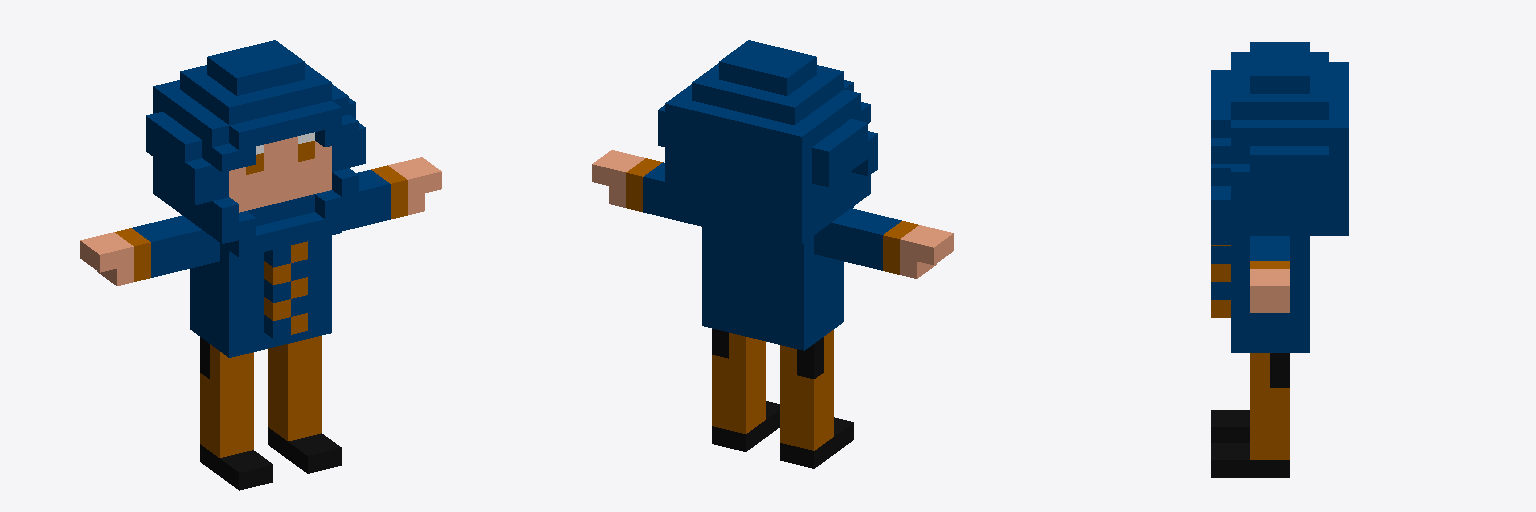
The picture shows the model from 3 angles: view 1: azimuth 30°, elevation 25°; view 2: azimuth 150°, elevation 25°; view 3: azimuth 270°, elevation 25°; orthographic projection.
Visible parts, largest first — view 1: object 1; view 2: object 1; view 3: object 1.
Part boxes in pixels (x1,y1,x2,y2): object 1: (80, 40, 441, 490); object 1: (592, 40, 953, 468); object 1: (1211, 42, 1348, 477).
Bounding box in the file's own units: 2 × 2.2 × 0.7.
1 materials, 1 textured.